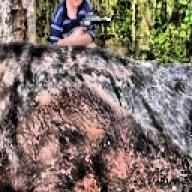boar: (0, 37, 192, 192)
